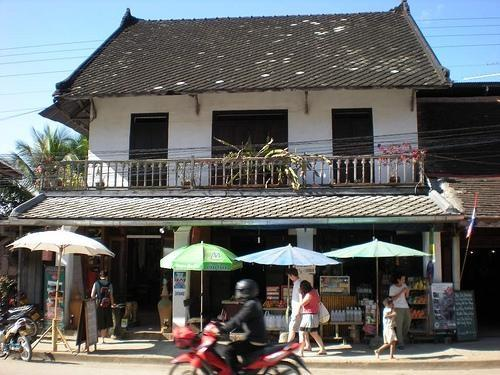motorcycle: (169, 325, 308, 371), (2, 304, 38, 360)
